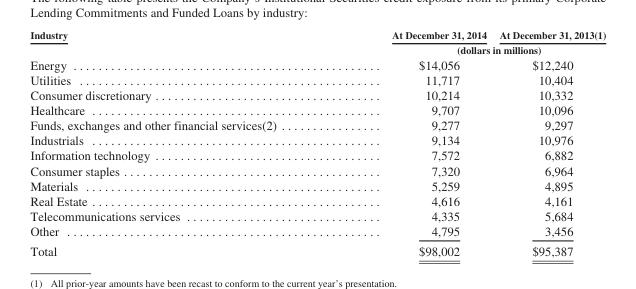table: (29, 28, 605, 258)
table column: (29, 28, 333, 258), (333, 28, 492, 258), (492, 28, 605, 258)
table column header: (29, 28, 605, 56)
table row: (29, 223, 605, 241), (29, 241, 605, 258), (29, 86, 605, 102), (29, 177, 605, 193), (29, 56, 605, 71), (29, 71, 605, 86), (29, 102, 605, 117), (29, 117, 605, 132), (29, 132, 605, 147), (29, 147, 605, 162), (29, 162, 605, 177), (29, 193, 605, 208), (29, 208, 605, 223), (29, 28, 605, 42), (29, 42, 605, 56)
table spanning cell: (29, 28, 333, 56), (333, 42, 605, 56)
